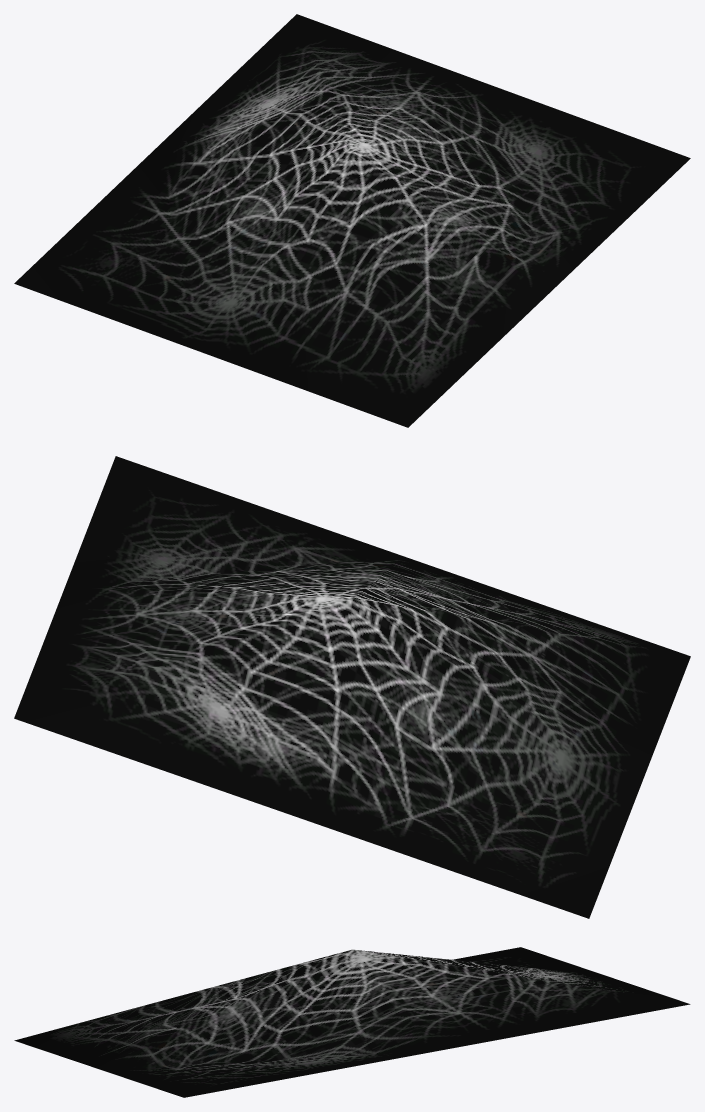
Rendered from MIRKWOOD_PLANE56.fbx.
3 views of the same model, one above another, from view 1: azimuth 30°, elevation 25°; view 2: azimuth 150°, elevation 25°; view 3: azimuth 270°, elevation 25° (orthographic). The views are drawn at different scales.
Visible parts, largest first — view 1: MIRKWOOD_PLANE56; view 2: MIRKWOOD_PLANE56; view 3: MIRKWOOD_PLANE56.
Boxes of the visible parts, x1,y1,x2,y2 form: MIRKWOOD_PLANE56: [14, 14, 690, 427]; MIRKWOOD_PLANE56: [14, 456, 690, 918]; MIRKWOOD_PLANE56: [14, 947, 690, 1097].
Bounding box in the file's own units: 138354 × 34223 × 145282.
1 material, 1 textured.
